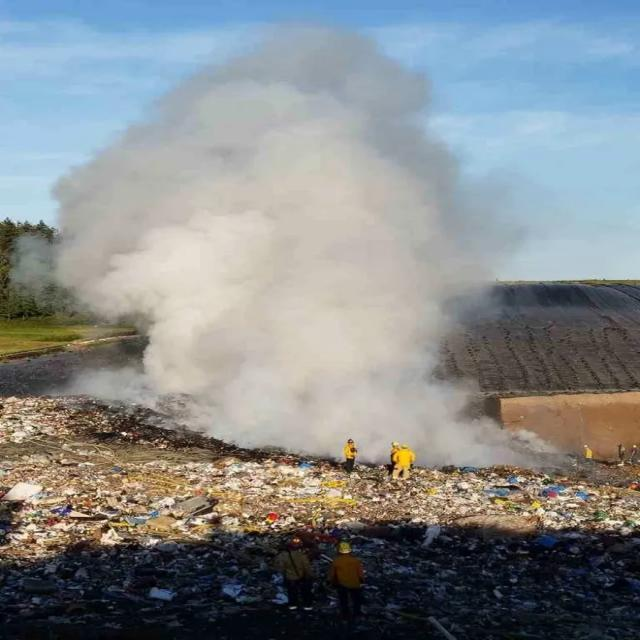Smoke: (38, 32, 546, 476)
